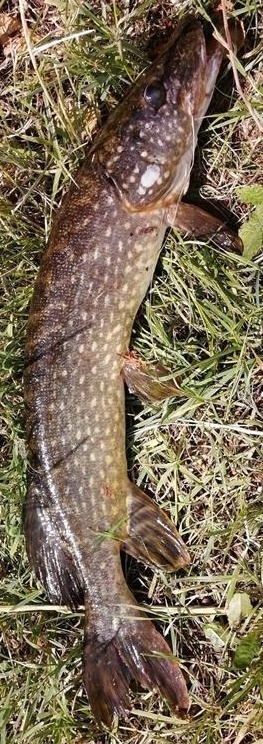Esox lucius: (20, 20, 243, 724)
